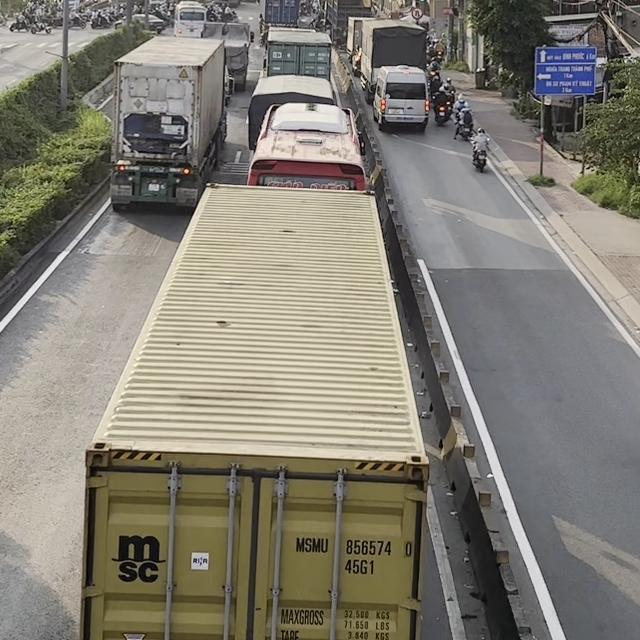bus: (246, 101, 368, 192)
car: (372, 64, 430, 132)
motorcycle: (468, 135, 490, 172), (454, 109, 477, 141), (432, 95, 448, 127)
truck: (78, 181, 431, 639), (108, 34, 234, 211), (360, 17, 428, 103), (262, 27, 332, 81), (324, 1, 374, 48)
